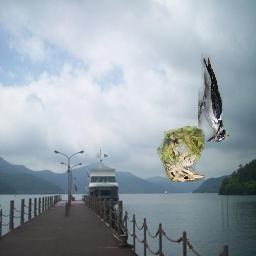Sparrow: (157, 126, 205, 182)
Woodpecker: (199, 54, 230, 143)
